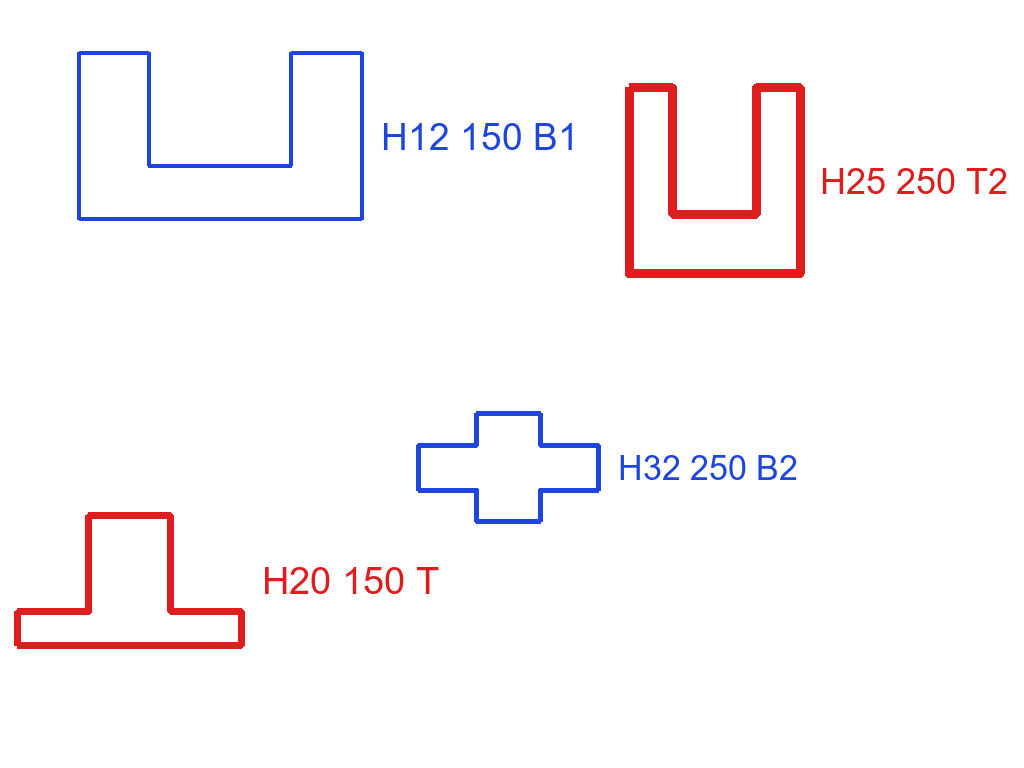shape: (75, 49, 365, 223), (623, 81, 807, 280), (12, 510, 247, 651), (414, 409, 603, 526)
text: (379, 121, 581, 152), (818, 166, 1010, 196), (260, 565, 441, 596), (616, 453, 800, 482)
